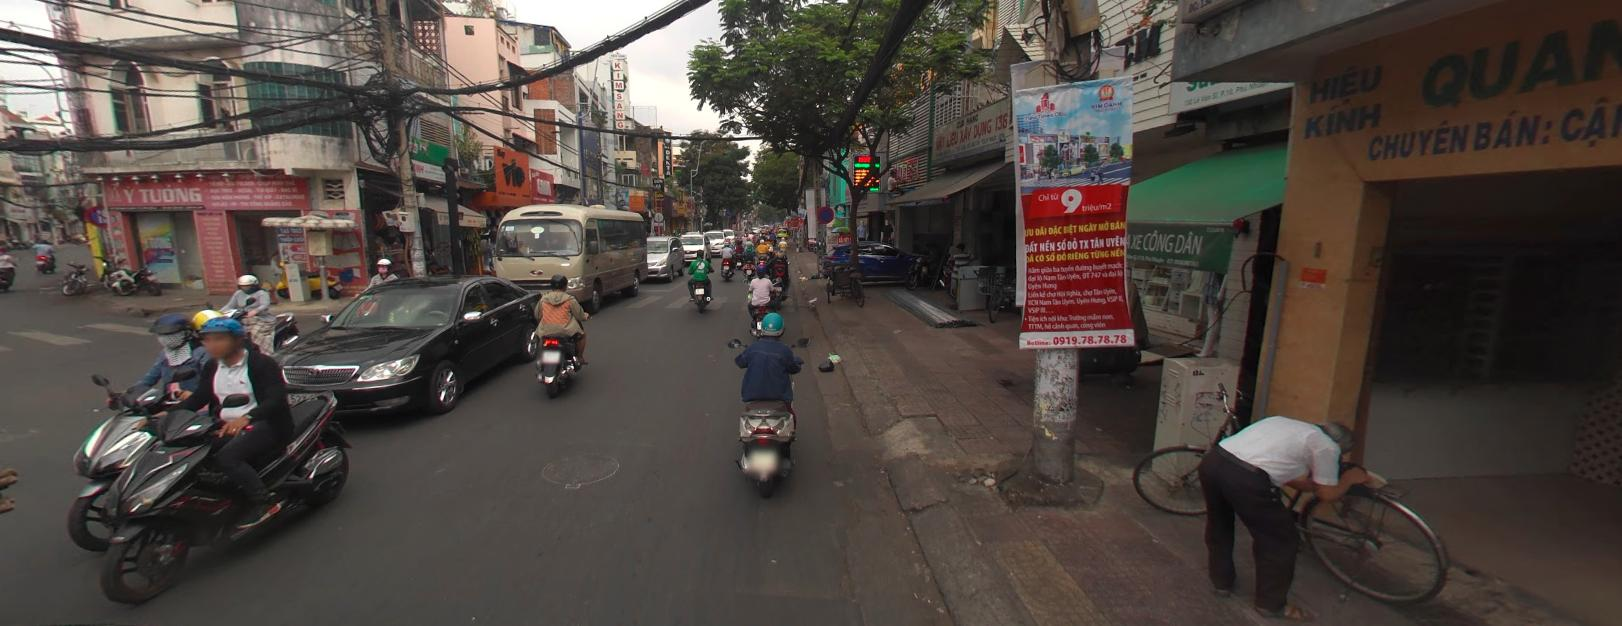Cam dung va do: (86, 204, 114, 227), (817, 205, 833, 222)
